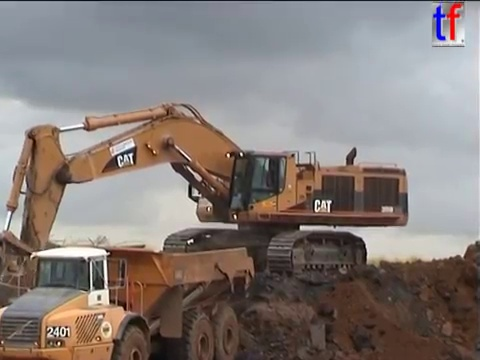excavator: (1, 98, 412, 313)
truck: (1, 240, 257, 360)
